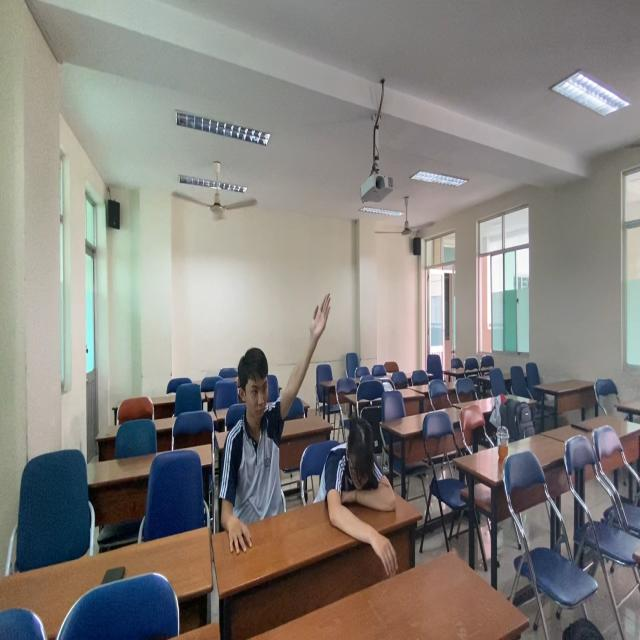raise_hand: (224, 291, 331, 529)
sleep: (316, 422, 405, 542)
